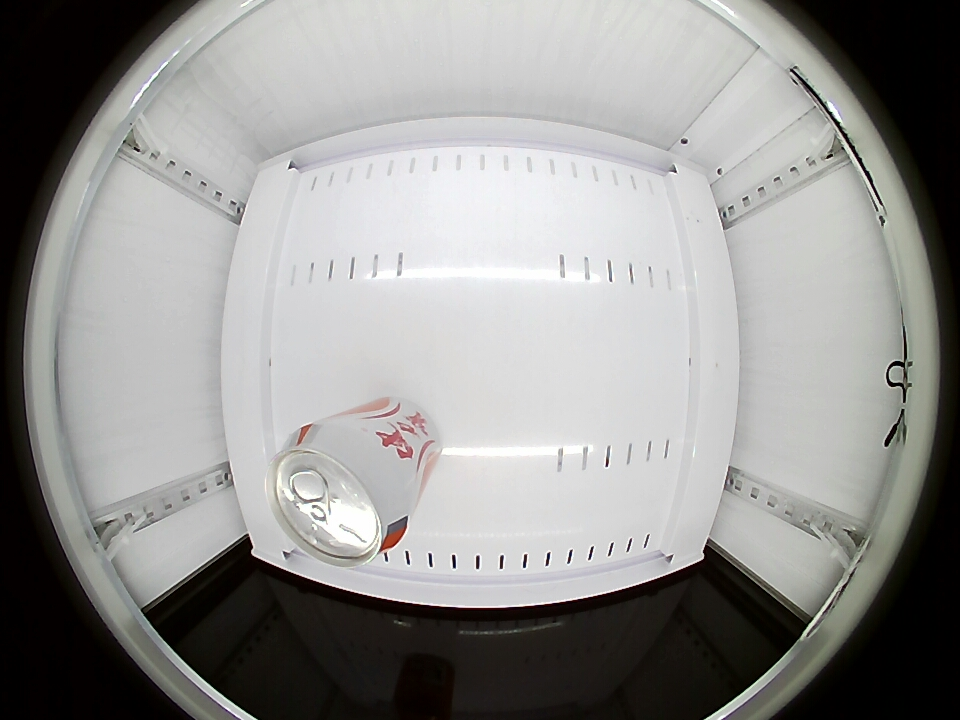jianlibao: (266, 422, 413, 568)
